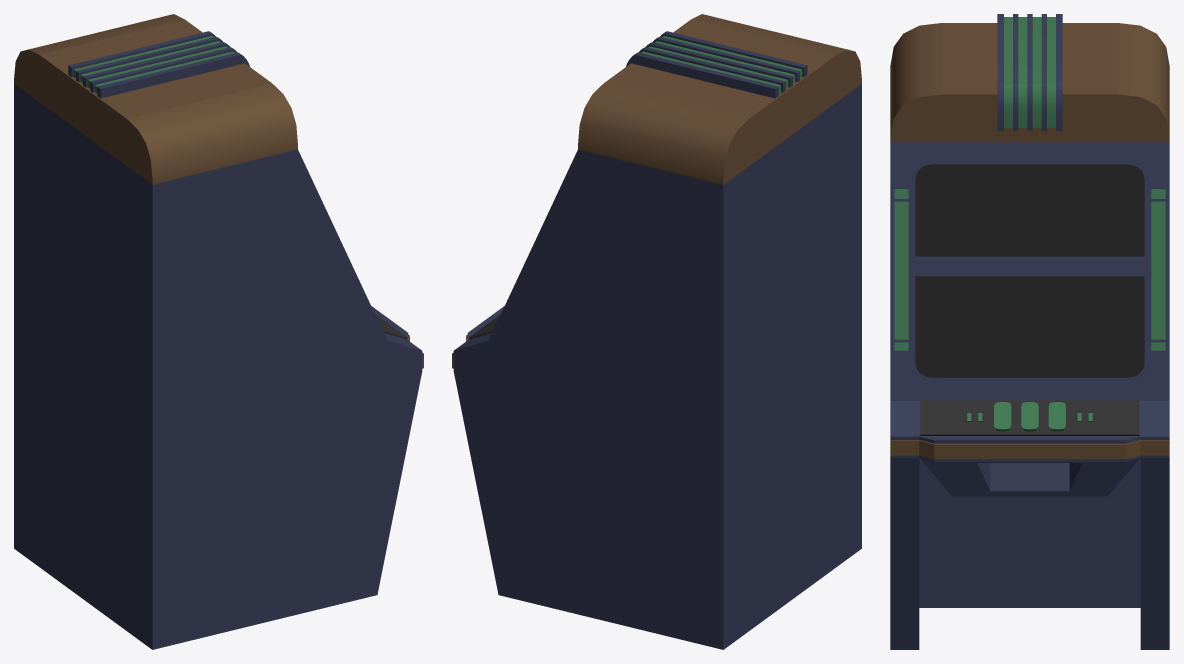
Rendered from slot machine.FBX.
3 renders of one model, left to right at view 1: azimuth 30°, elevation 25°; view 2: azimuth 150°, elevation 25°; view 3: azimuth 270°, elevation 25°, orthographic.
Parts seen in each view (by area): view 1: Plane002; view 2: Plane002; view 3: Plane002.
Part boxes in pixels (box(x1,y1,x2,y2)): Plane002: box(14, 14, 423, 649); Plane002: box(452, 14, 861, 649); Plane002: box(890, 14, 1169, 649).
Bounding box in the file's own units: 10.83 × 19.35 × 9.3.
1 material, 1 textured.
